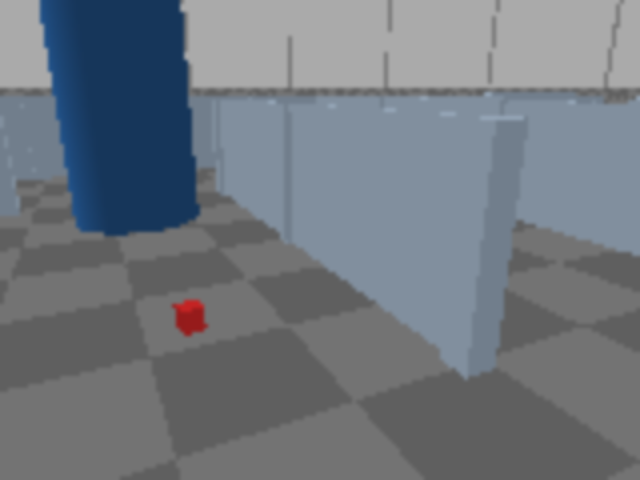puck: (174, 299, 206, 336)
